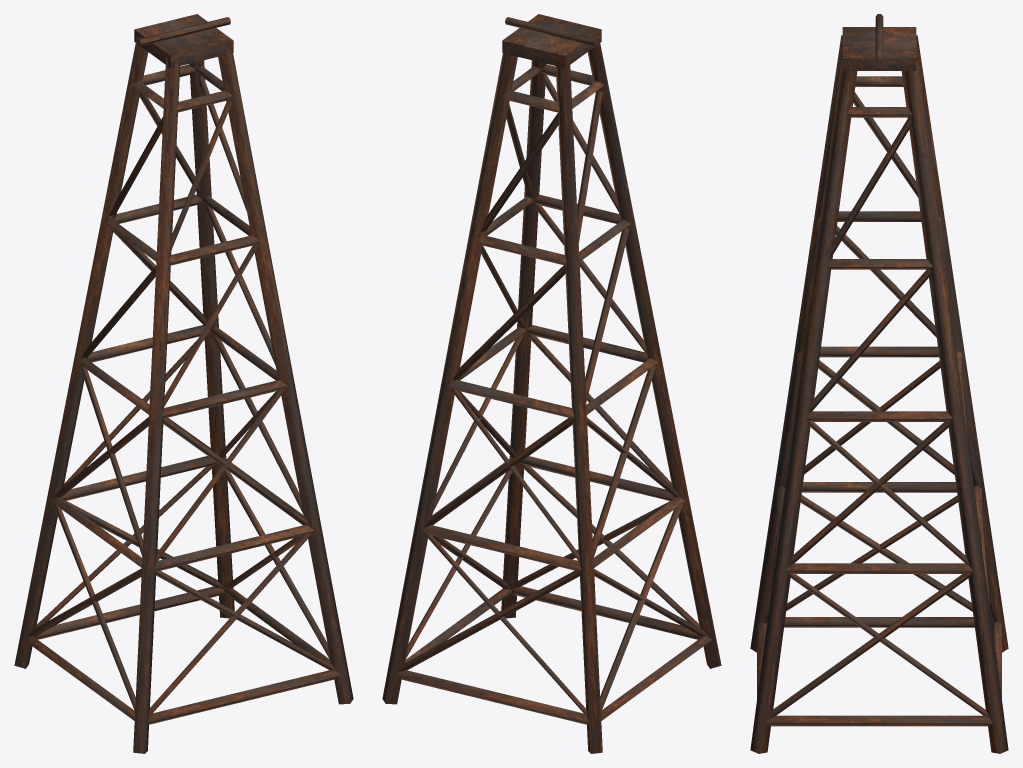
File: Lattice_Pylon.glb
The picture shows the model from 3 angles, left to right: view 1: azimuth 30°, elevation 25°; view 2: azimuth 150°, elevation 25°; view 3: azimuth 270°, elevation 25°; orthographic projection.
Parts seen in each view (by area): view 1: Lattice_Pylon; view 2: Lattice_Pylon; view 3: Lattice_Pylon.
Boxes of the visible parts, x1,y1,x2,y2 form: Lattice_Pylon: (14, 14, 353, 753); Lattice_Pylon: (382, 14, 721, 753); Lattice_Pylon: (750, 14, 1008, 753).
Bounding box in the file's own units: 2.44 × 6.94 × 2.44.
1 material, 1 textured.
